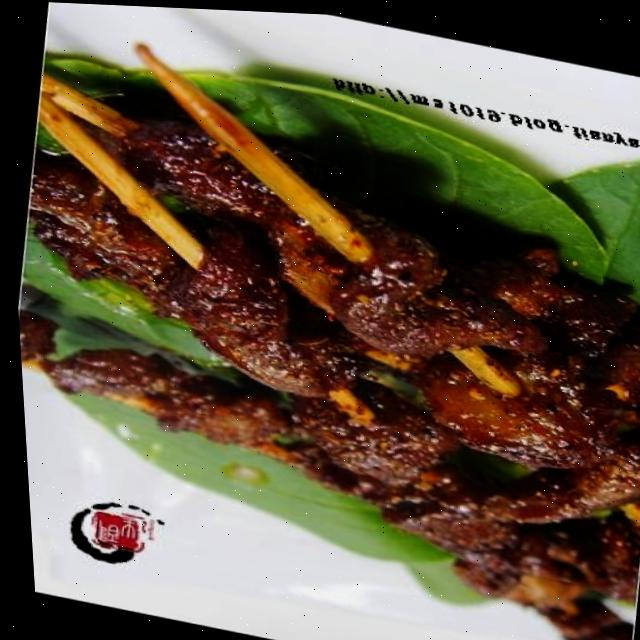烧串烤肉: (1, 18, 640, 640)
